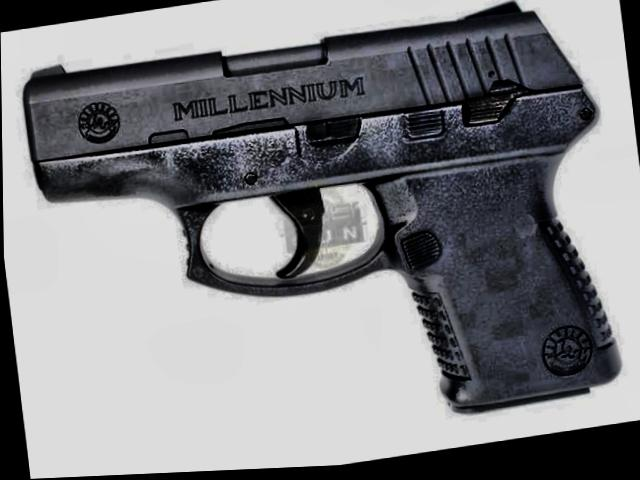pistol: (19, 0, 628, 479)
